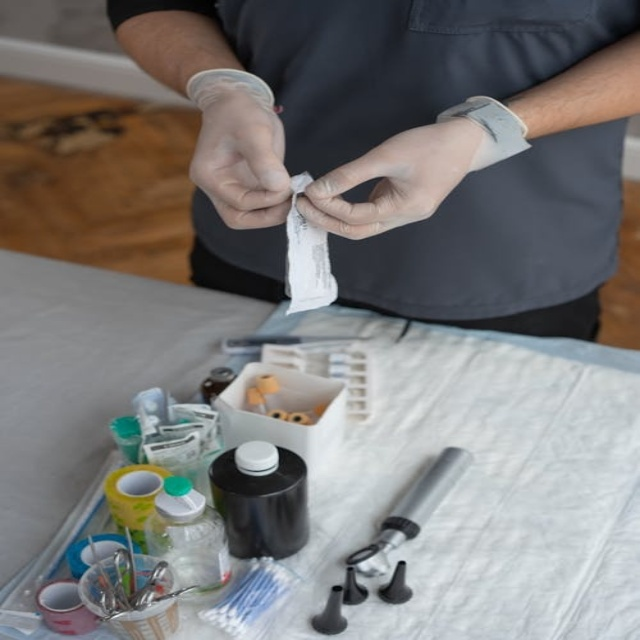Guantes: (293, 95, 532, 241), (186, 63, 303, 230)
